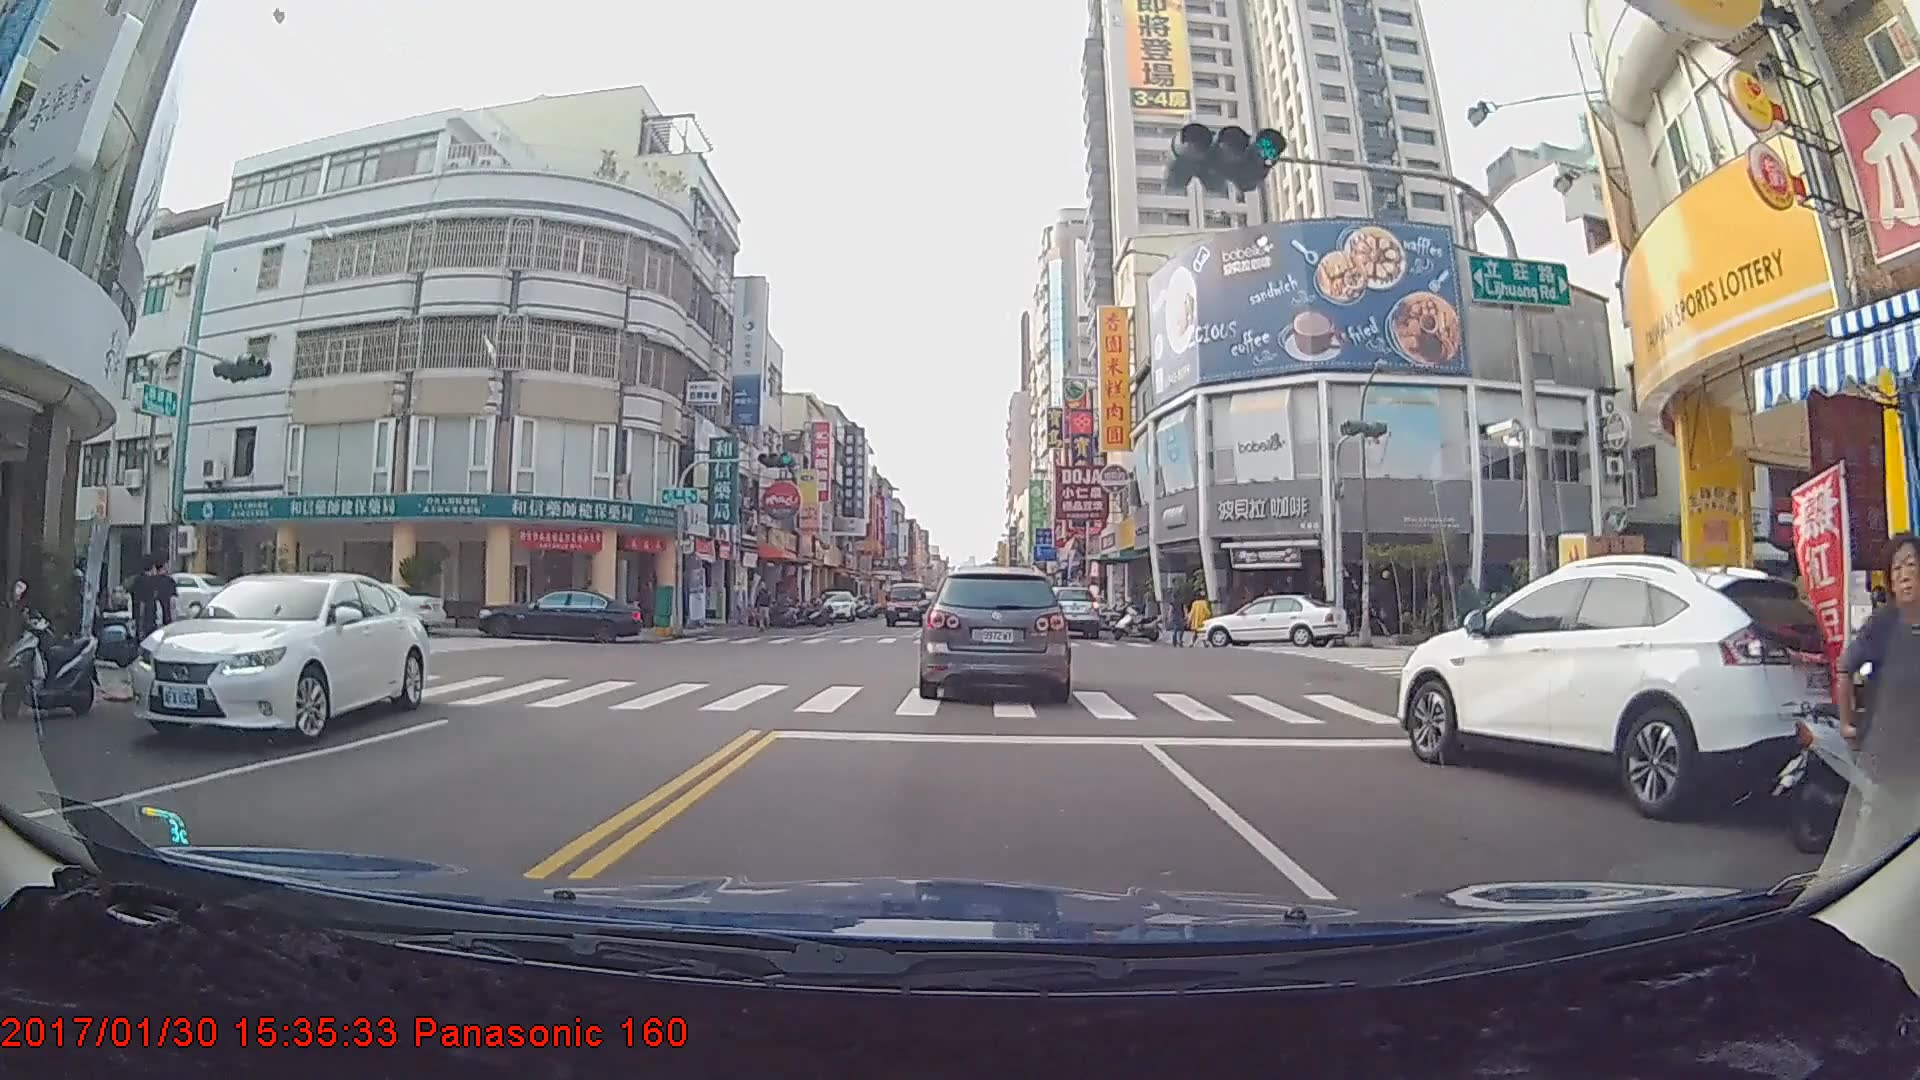pedestrian: (1829, 530, 1920, 934), (140, 551, 188, 709), (1189, 589, 1212, 647), (1170, 589, 1190, 650), (753, 581, 773, 634)
vehicle: (1397, 553, 1853, 823), (124, 570, 424, 744), (917, 564, 1071, 703), (474, 587, 642, 642), (1197, 589, 1345, 647), (1035, 583, 1098, 638), (884, 579, 928, 626), (814, 587, 857, 622)
